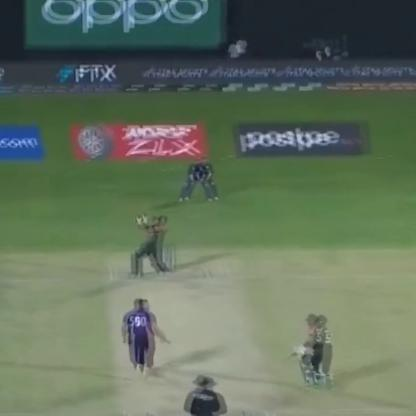pitch: (100, 246, 288, 415)
